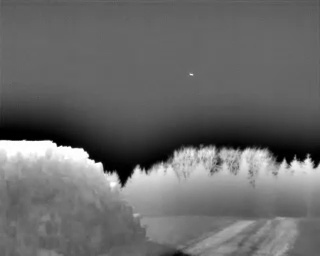AIRPLANE: (187, 71, 196, 79)
